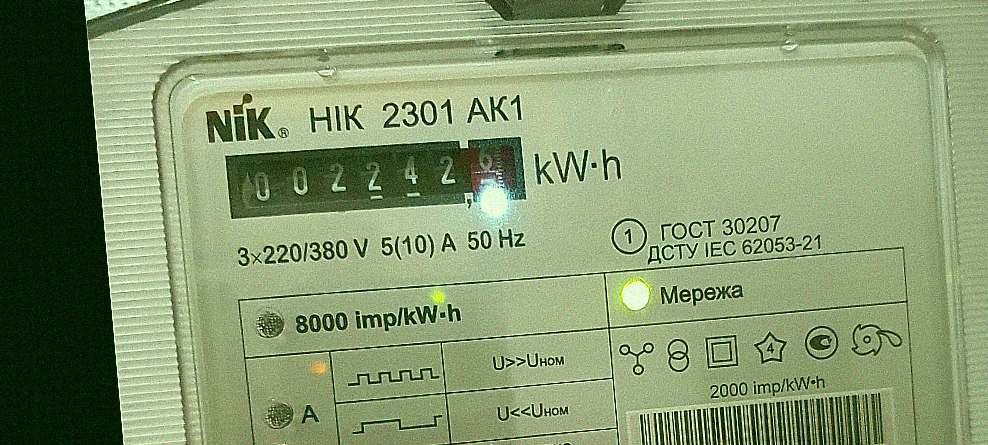0: (251, 168, 273, 203), (289, 163, 310, 197)
2: (363, 157, 384, 192), (327, 160, 348, 193), (437, 153, 457, 186)
4: (401, 152, 420, 186)
6: (476, 144, 494, 172)
screen: (213, 118, 538, 235)
